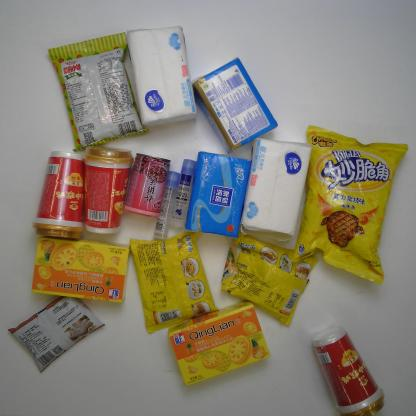Canned Food: (125, 147, 168, 222)
Dessert: (165, 295, 273, 389), (25, 240, 134, 304)
Instant Drink: (312, 324, 402, 412), (28, 148, 87, 243), (81, 138, 134, 238)
Instant Noodles: (220, 230, 334, 328), (127, 230, 220, 335)
Puffed Food: (284, 114, 409, 285), (38, 28, 149, 152)
Seasoner: (12, 293, 110, 372)
Stationery: (150, 164, 182, 242), (169, 156, 196, 233)
Tissue: (192, 51, 284, 152), (238, 132, 315, 242), (125, 15, 197, 129), (184, 147, 253, 241)
